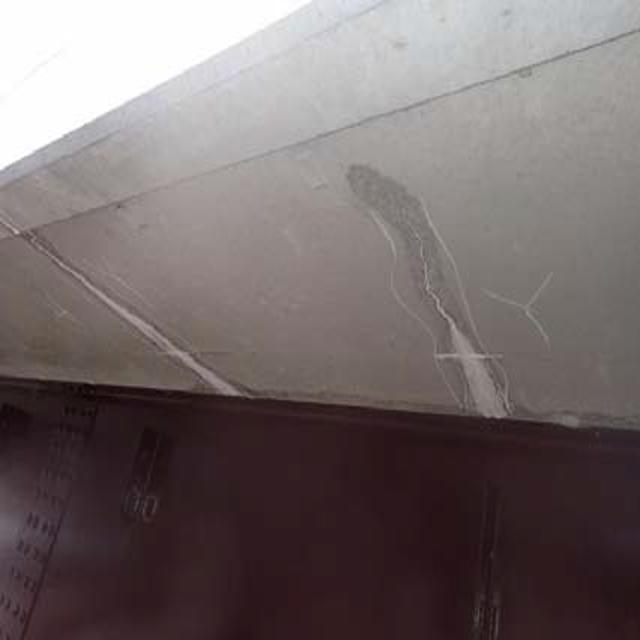freelime: (24, 232, 253, 407), (406, 262, 513, 418)
